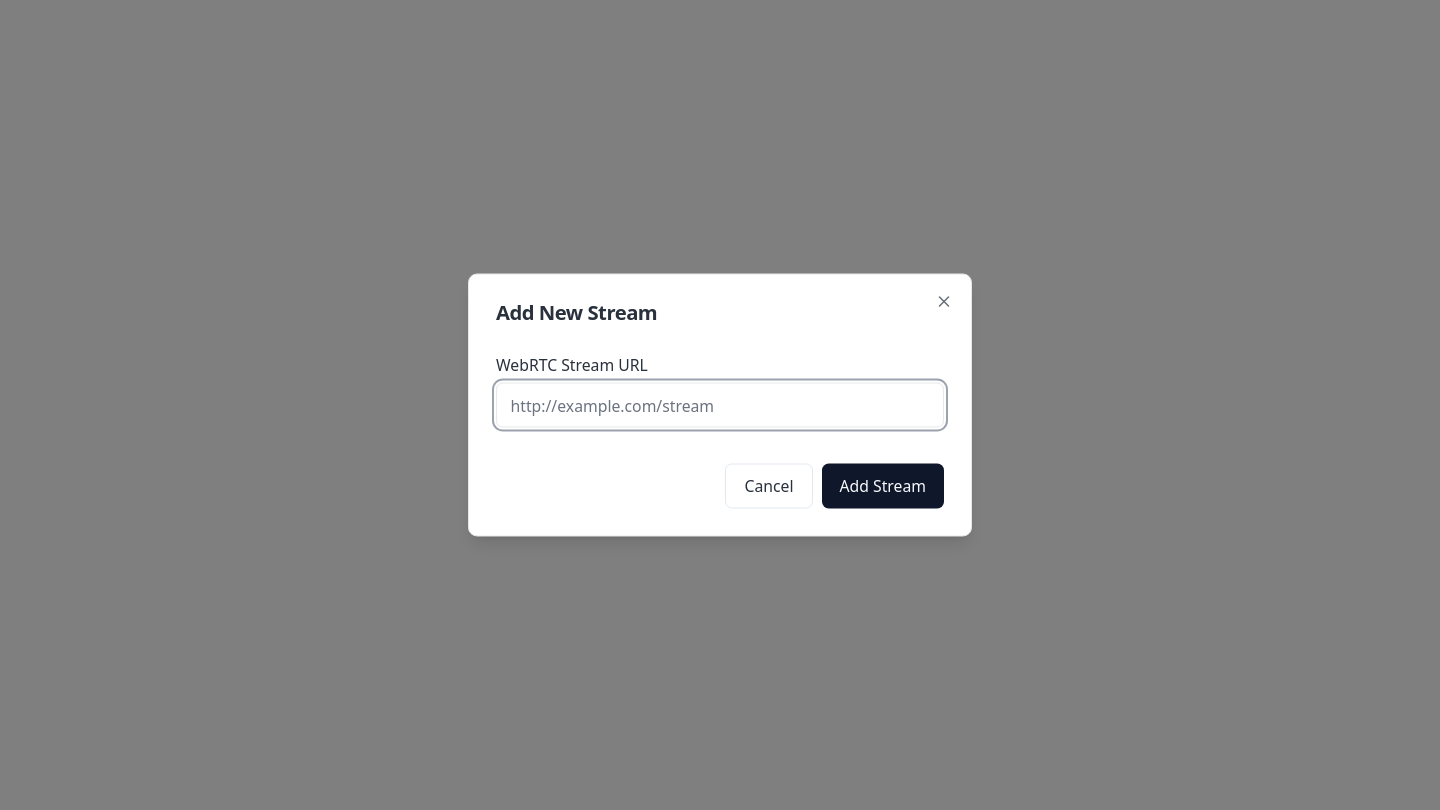
Test case: AddStreamDialog › shows error for empty URL
The image size is (1440, 810).
Click the button "Add Stream".
click(883, 486)  # box [822,464,944,508]
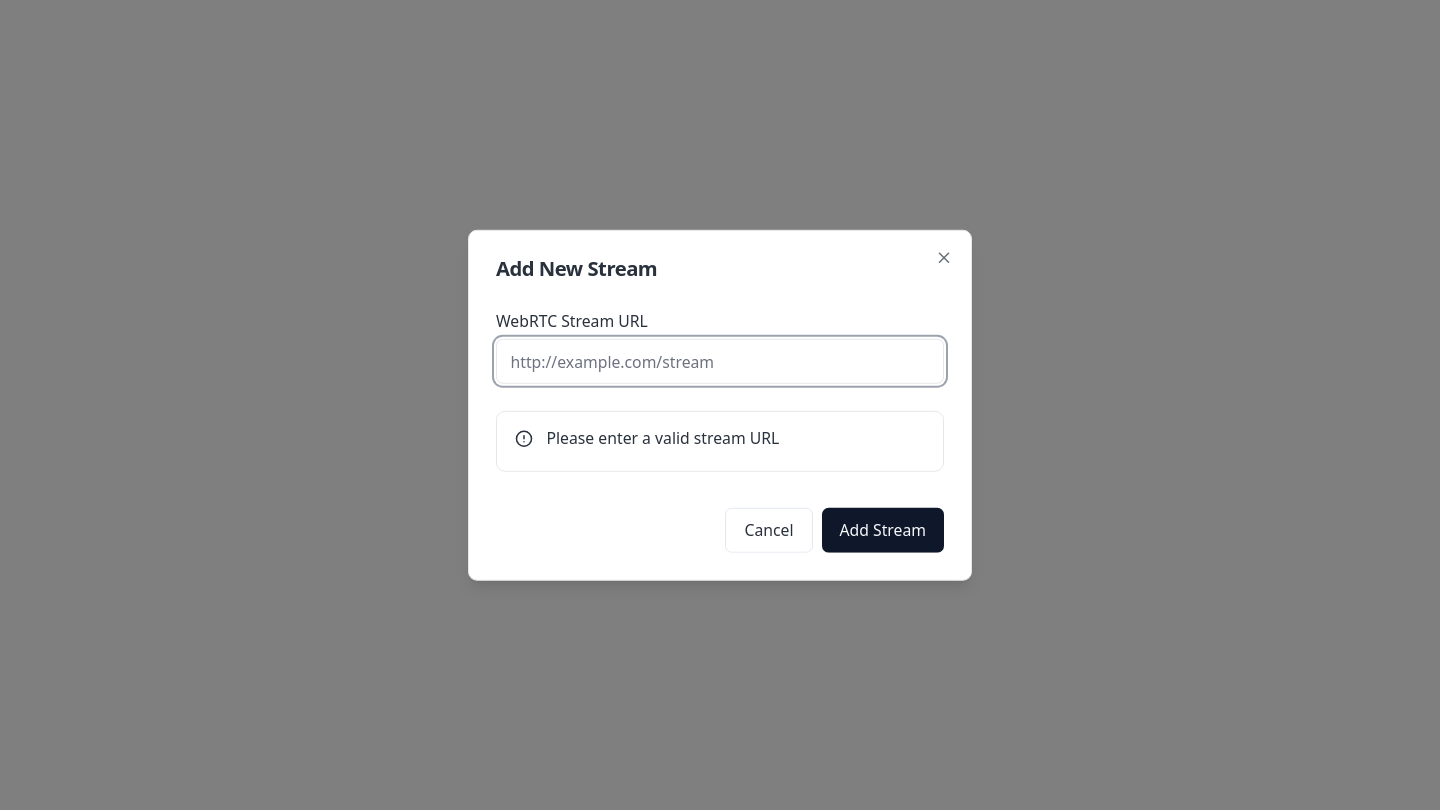
Result: the text "Please enter a valid stream URL" is shown at [546,427,779,449]
